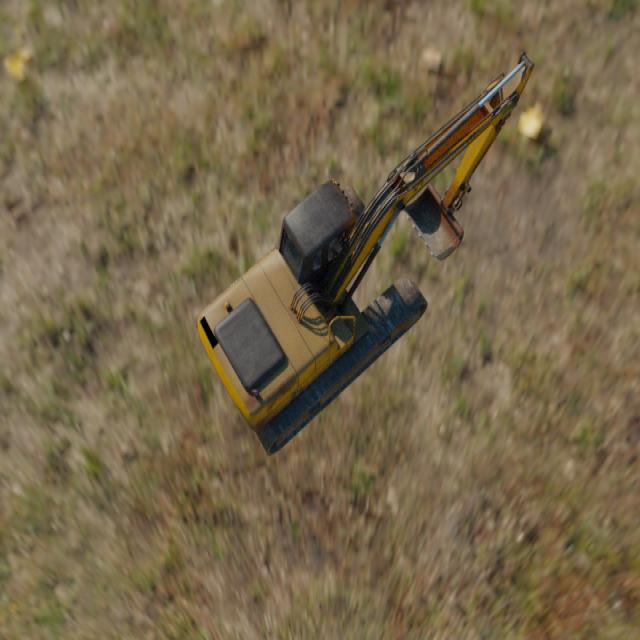excavator: (195, 49, 534, 456)
